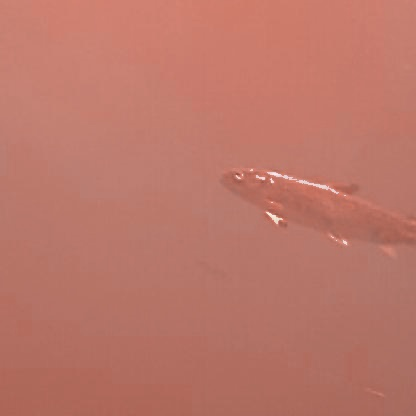salmon: (212, 159, 414, 262)
